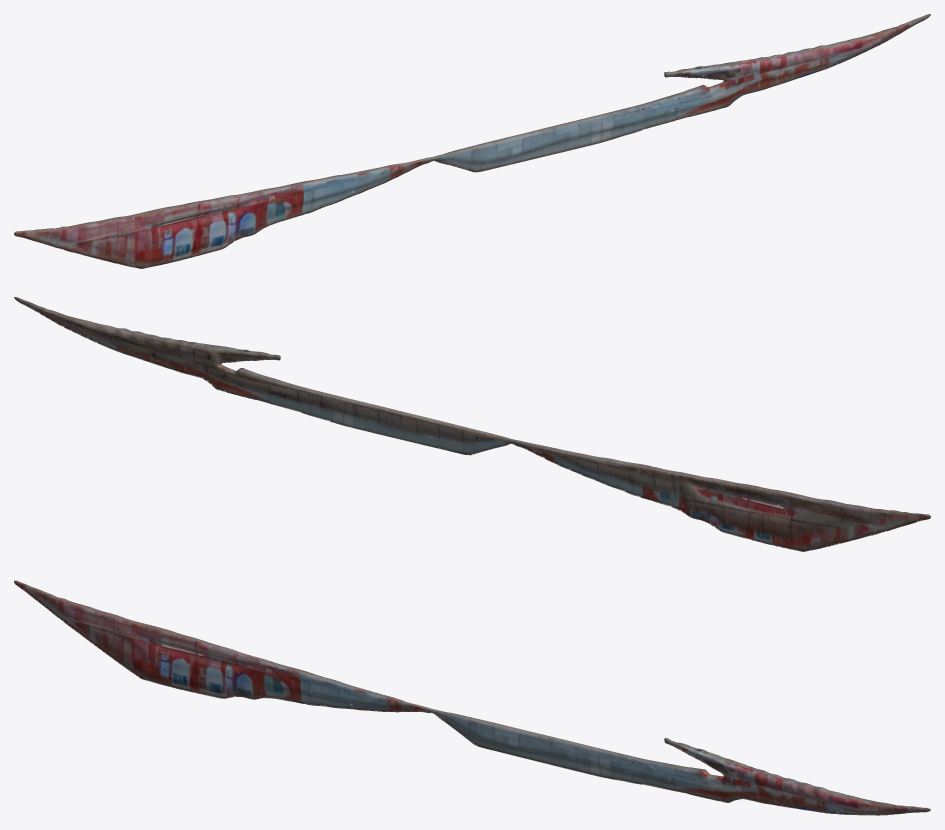
The picture shows the model from 3 angles, top to bottom: view 1: azimuth 30°, elevation 25°; view 2: azimuth 150°, elevation 25°; view 3: azimuth 330°, elevation 25°; orthographic projection.
Visible parts, largest first — view 1: file1; view 2: file1; view 3: file1.
Boxes of the visible parts, bbox=[...] form: file1: bbox=[14, 14, 930, 268]; file1: bbox=[14, 297, 930, 551]; file1: bbox=[14, 580, 930, 815].
Bounding box in the file's own units: 2 × 0.1451 × 0.0259.
Materials: 1 (1 with a texture image).
